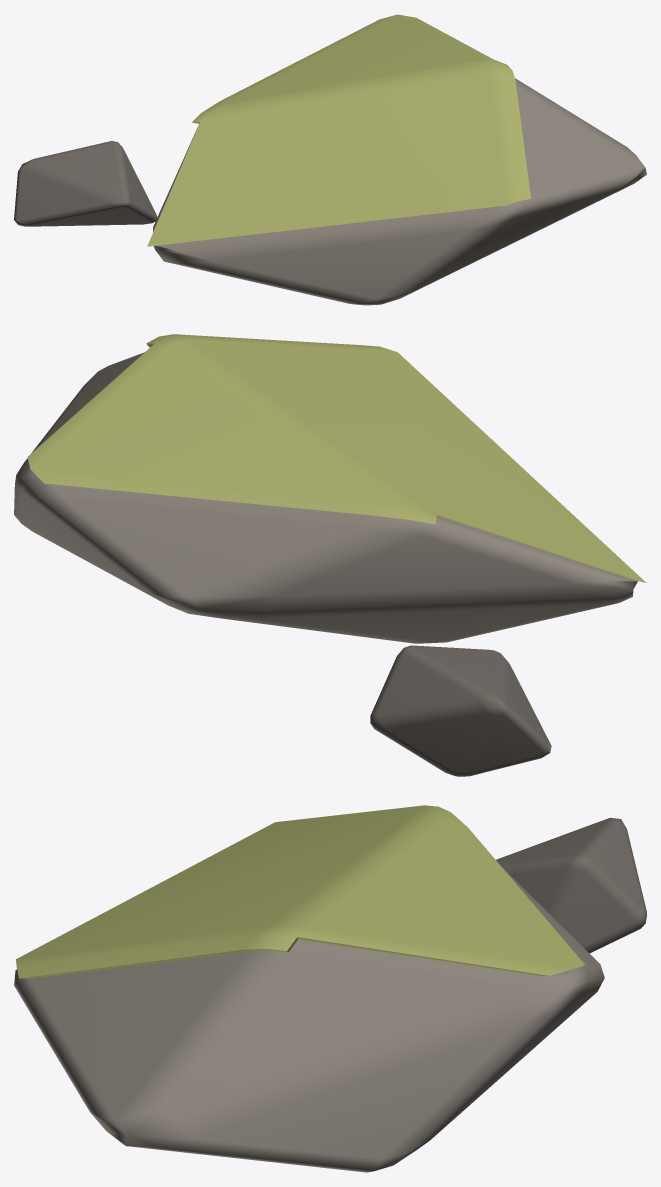
The model's file is rocher_prairie_3.glb.
The picture shows the model from 3 angles, top to bottom: view 1: azimuth 30°, elevation 25°; view 2: azimuth 150°, elevation 25°; view 3: azimuth 270°, elevation 25°; orthographic projection. The views are drawn at different scales.
Visible parts, largest first — view 1: lichen_lichen.002, roche_pierre_claire.006, roche_pierre.012; view 2: lichen_lichen.002, roche_pierre_claire.006, roche_pierre.012; view 3: roche_pierre_claire.006, lichen_lichen.002, roche_pierre.012.
Part boxes in pixels (x1,y1,x2,y2): lichen_lichen.002: (147,14,530,246); roche_pierre_claire.006: (153,78,646,305); roche_pierre.012: (14,141,157,226); lichen_lichen.002: (27,334,646,582); roche_pierre_claire.006: (14,352,637,643); roche_pierre.012: (370,645,551,776); roche_pierre_claire.006: (14,868,604,1172); lichen_lichen.002: (16,805,584,978); roche_pierre.012: (496,817,646,953).
Bounding box in the file's own units: 0.8546 × 0.2701 × 0.6576.
